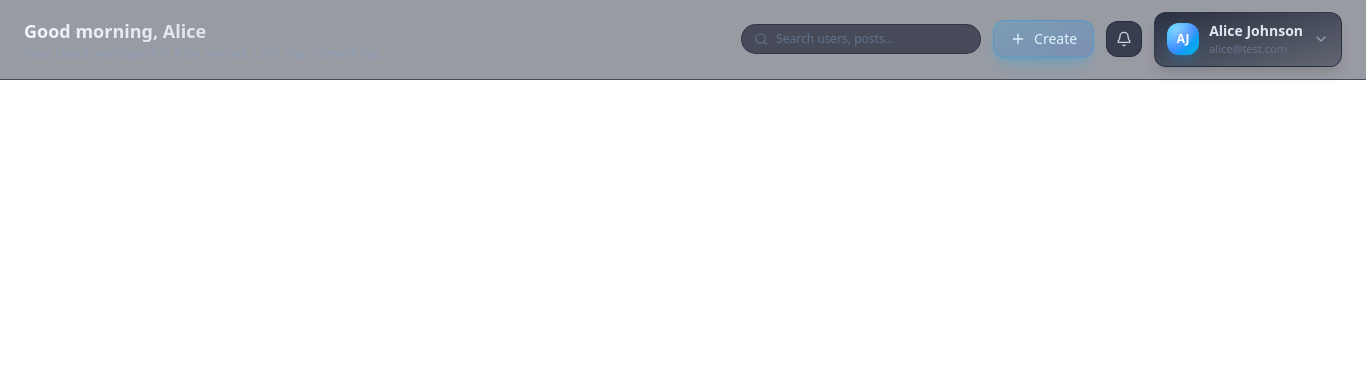
Test: MainHeader › create dropdown › opens create dropdown when Create button is clicked
The image size is (1366, 392).
Click the button "Create" at (1044, 39), box 993,20 -> 1094,58
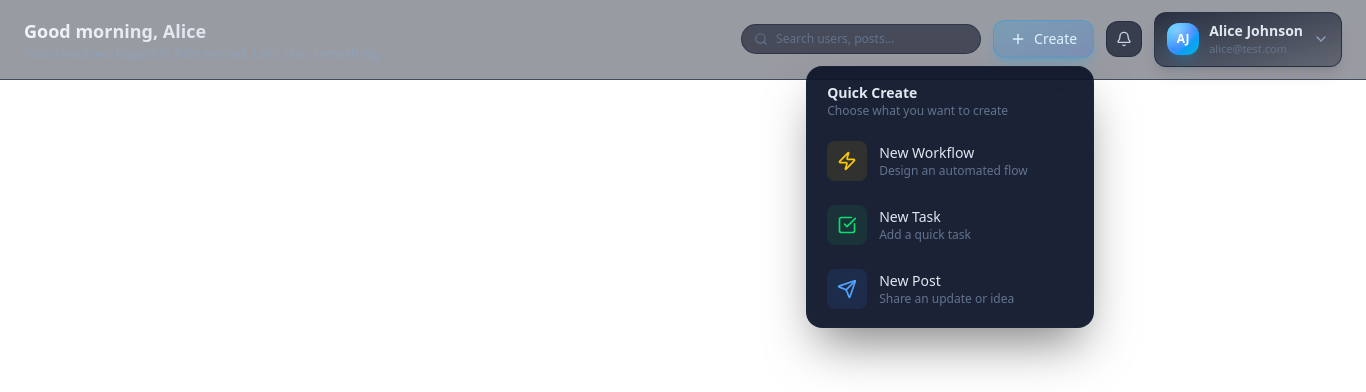
Now the heading "Quick Create" is shown, box 827,83 -> 917,102
